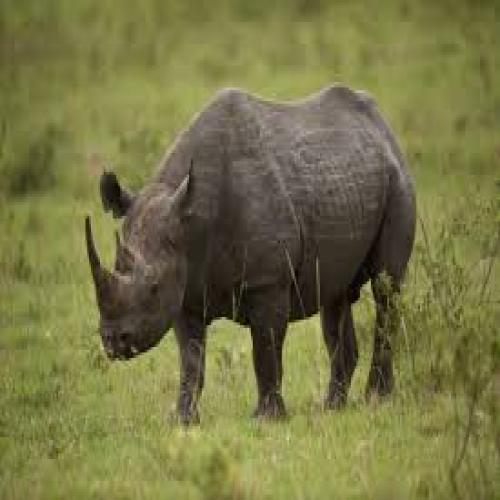rhino-endangered: (82, 82, 420, 419)
